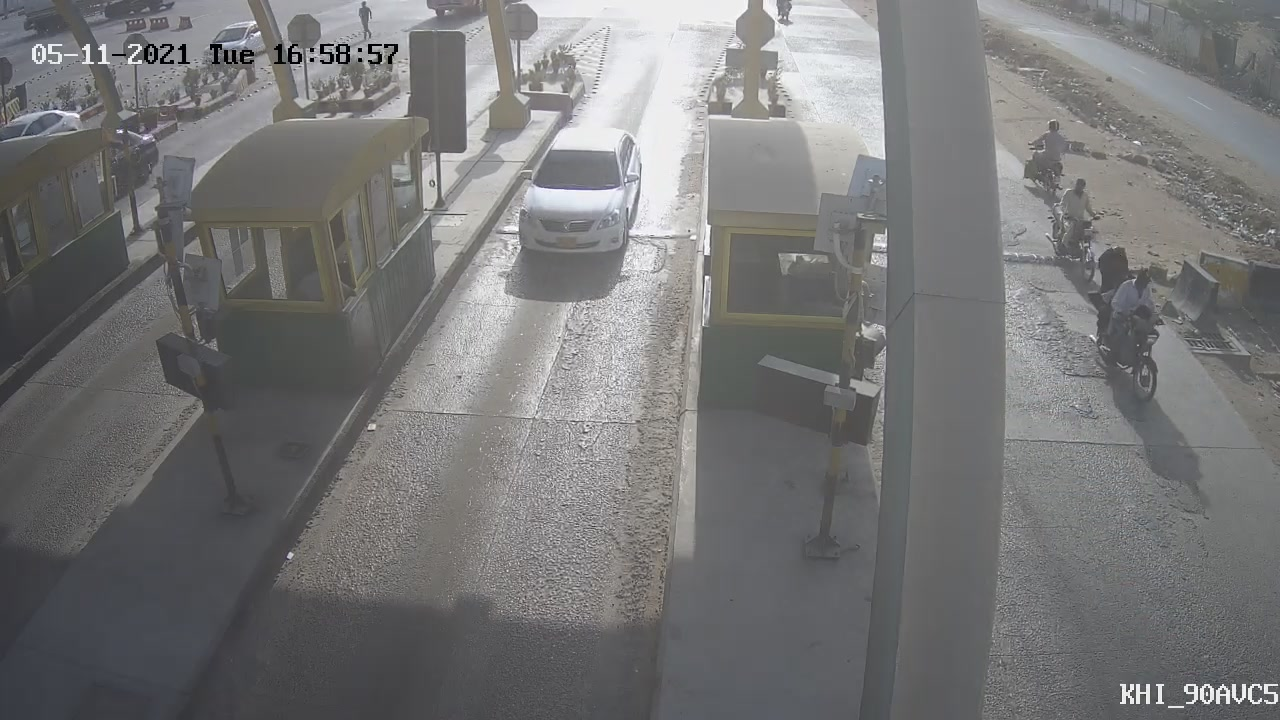F1: (492, 107, 663, 287)
